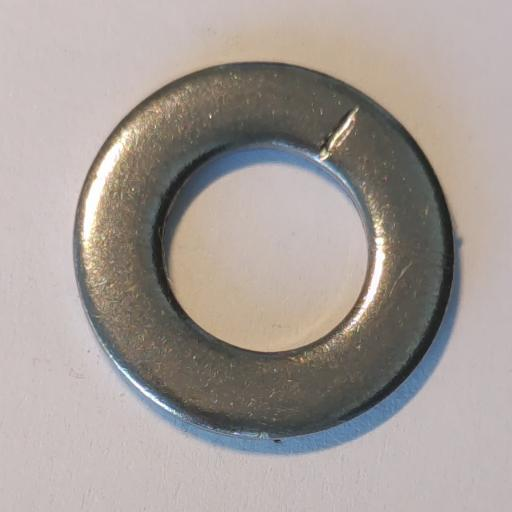scratch: (318, 106, 359, 162)
